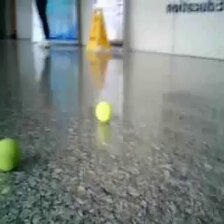tennis: (1, 139, 22, 172), (94, 102, 112, 122)
